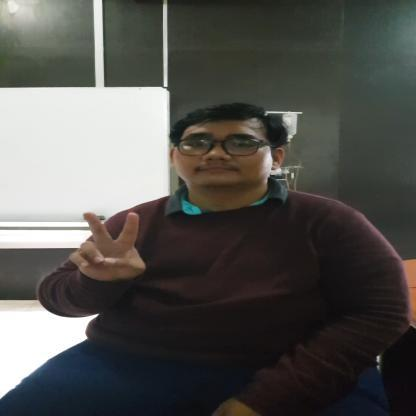V: (66, 210, 147, 282)
